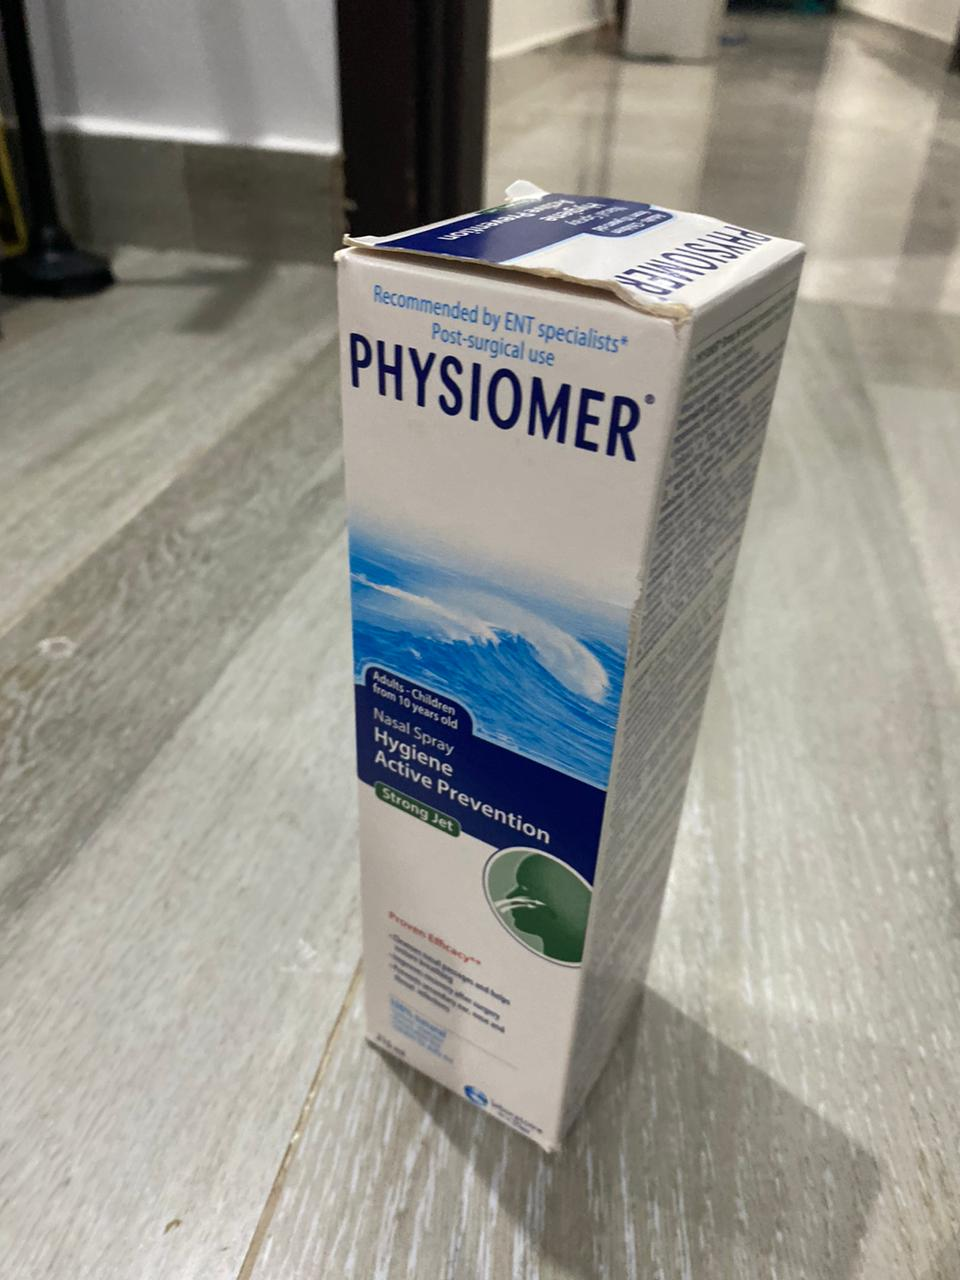Physiomer: (327, 182, 812, 1168)
